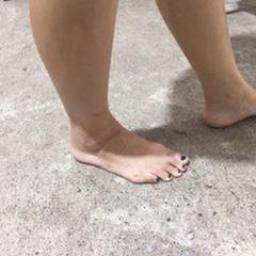Lateral View -Right Foot-: (58, 102, 191, 196)
